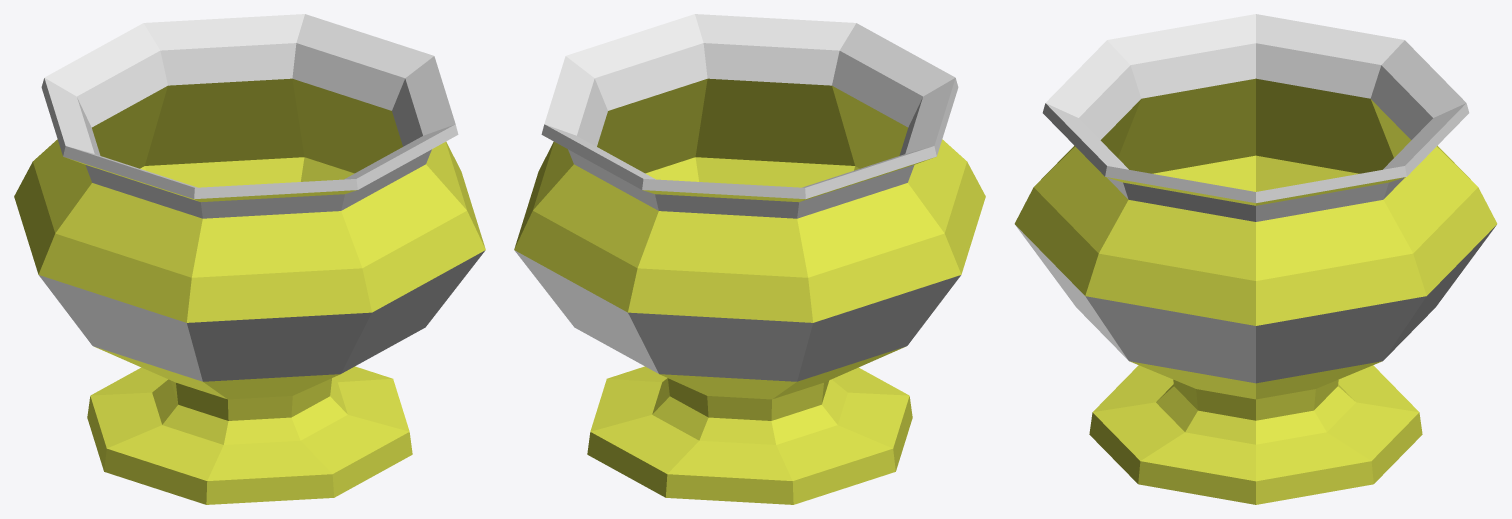
File: Vase_S_1.fbx
3 views of the same model, side by side, from view 1: azimuth 30°, elevation 25°; view 2: azimuth 150°, elevation 25°; view 3: azimuth 270°, elevation 25° (orthographic).
Parts seen in each view (by area): view 1: Vase_S_1; view 2: Vase_S_1; view 3: Vase_S_1.
Boxes of the visible parts, bbox=[...] form: Vase_S_1: bbox=[14, 14, 485, 504]; Vase_S_1: bbox=[514, 14, 985, 504]; Vase_S_1: bbox=[1014, 14, 1497, 504].
Size of the model in its own units: 0.2211 by 0.1675 by 0.2211.
